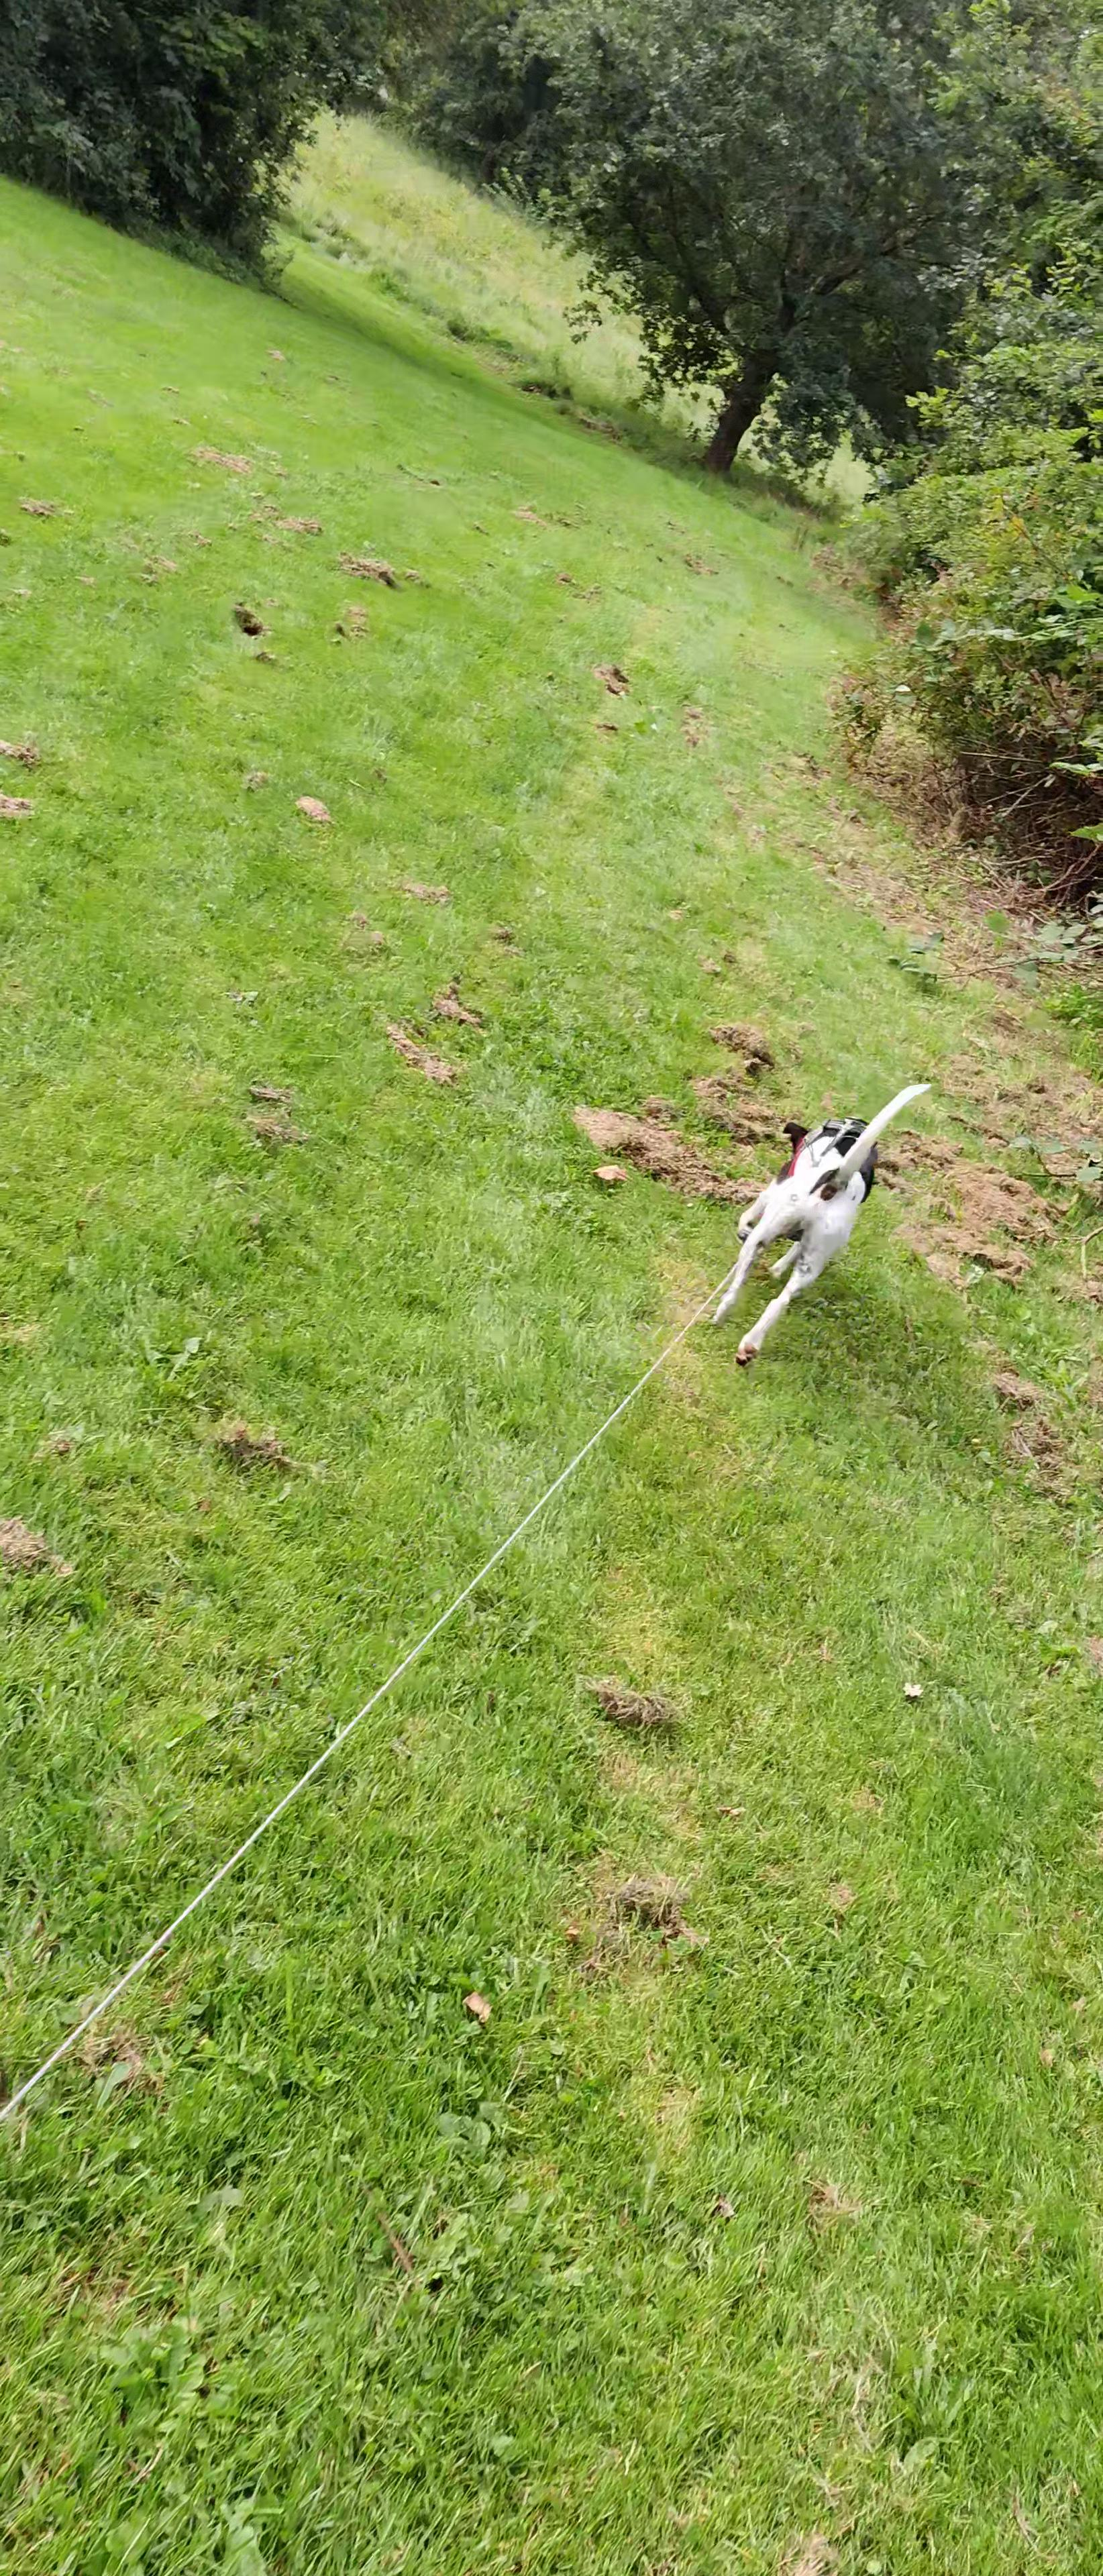Dog: (700, 1079, 939, 1367)
